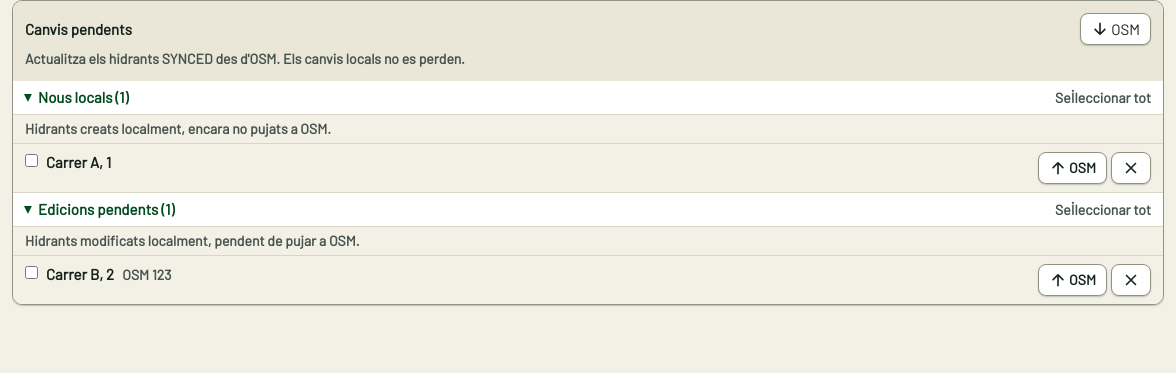
OsmSyncPanel › puja exactament els hidrants seleccionats de diverses seccions
What coordinates should you click on to do the following:
click the 1st checkbox
I would click on:
 (32, 160)
Its box is top-left (25, 154), bottom-right (38, 167).
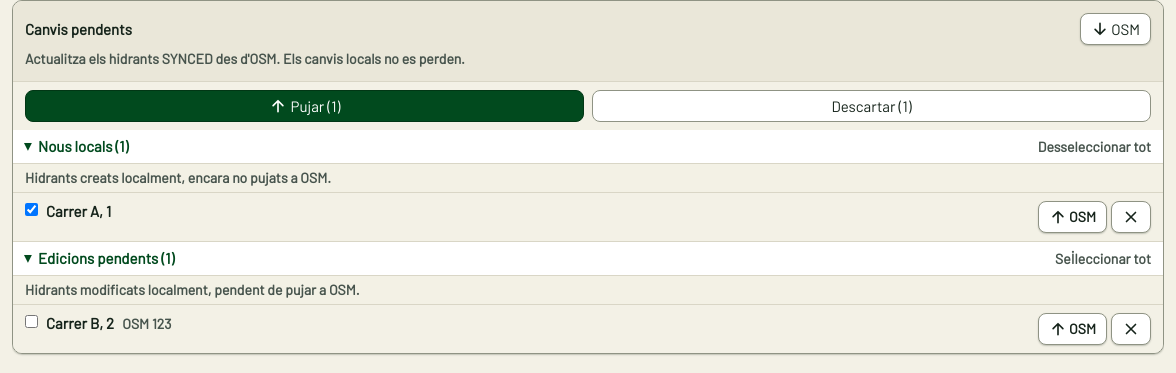
What coordinates should you click on to do the following:
click the checkbox in the row of "123"
I would click on:
 (32, 322)
Its box is top-left (25, 315), bottom-right (38, 328).
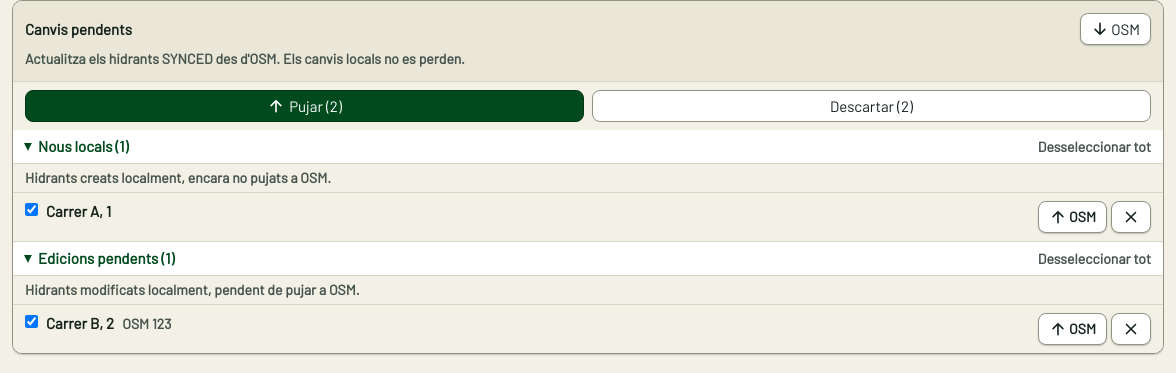
What coordinates should you click on to do the following:
click the button "Pujar (2)"
I would click on:
 (304, 106)
Its box is top-left (25, 90), bottom-right (584, 122).
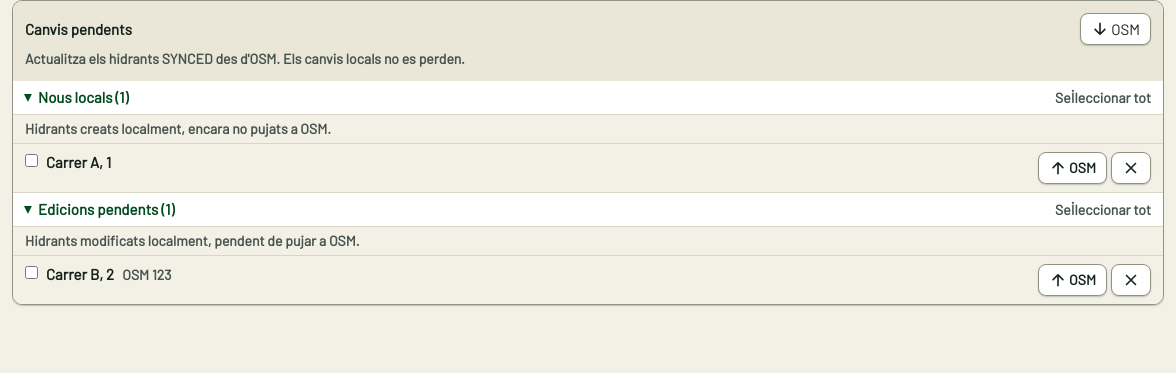
Check: the button "Pujar (" is gone
